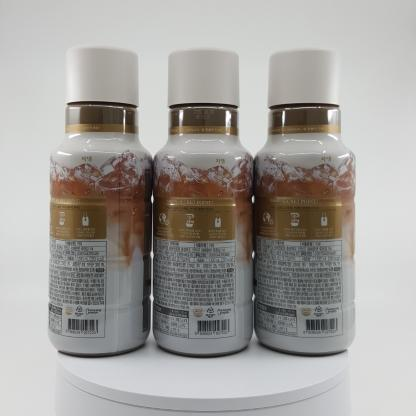----------1-1L: (47, 45, 153, 357), (253, 47, 356, 356), (152, 46, 254, 357)
